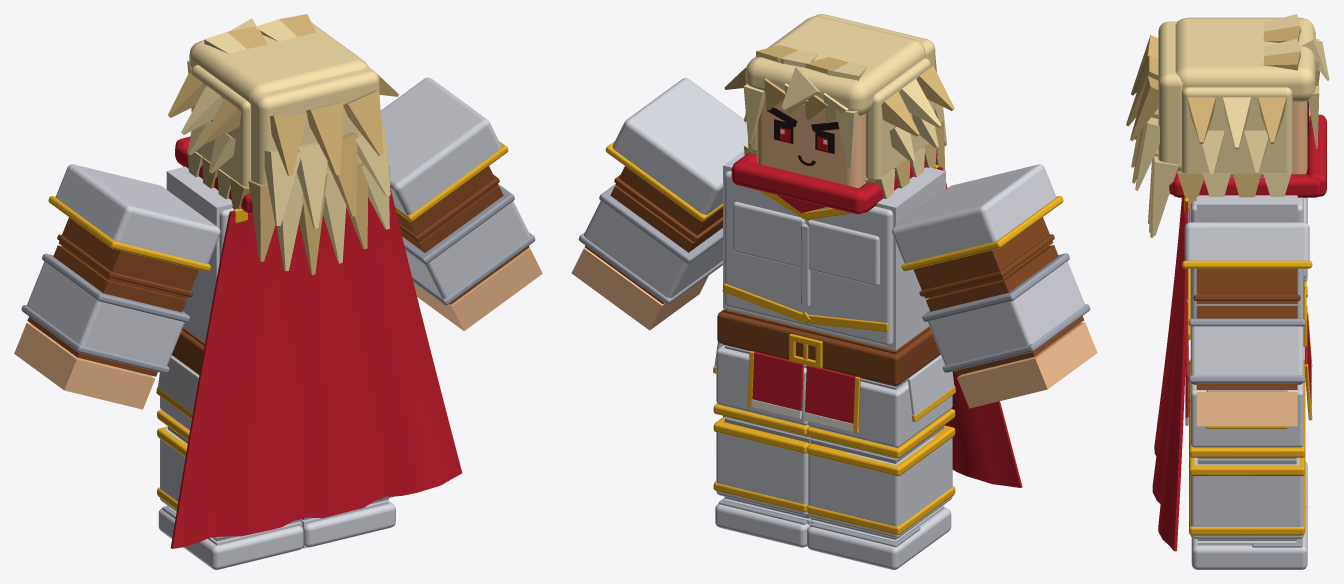
File: warden_female.glb
The picture shows the model from 3 angles, left to right: view 1: azimuth 30°, elevation 25°; view 2: azimuth 150°, elevation 25°; view 3: azimuth 270°, elevation 25°; orthographic projection.
Parts seen in each view (by area): view 1: Cape, Hair, LeftUpperArm, RightUpperArm, LeftLowerArm, RightLowerArm, LeftHand, UpperTorso, LeftFoot, RightHand, RightFoot, LeftLowerLeg (+4 smaller); view 2: UpperTorso, Hair, LeftUpperArm, RightUpperArm, LeftLowerArm, LeftLowerLeg, RightLowerArm, Skirt, LowerTorso, RightLowerLeg, Head, LeftUpperLeg (+7 smaller); view 3: Hair, RightLowerLeg, RightUpperArm, RightLowerArm, Cape, UpperTorso, RightUpperLeg, RightHand, RightFoot, Scarf, Skirt, Head.
Part boxes in pixels (<box>): Cape: <box>170,186,462,548</box>; Hair: <box>168,14,398,274</box>; LeftUpperArm: <box>48,164,220,298</box>; RightUpperArm: <box>380,77,508,242</box>; LeftLowerArm: <box>21,245,190,376</box>; RightLowerArm: <box>400,184,535,305</box>; LeftHand: <box>14,323,155,409</box>; UpperTorso: <box>166,164,390,342</box>; LeftFoot: <box>158,505,303,569</box>; RightHand: <box>413,248,542,330</box>; RightFoot: <box>301,500,395,548</box>; LeftLowerLeg: <box>157,426,302,541</box>; UpperTorso: <box>722,150,945,350</box>; Hair: <box>724,14,954,198</box>; LeftUpperArm: <box>892,164,1063,298</box>; RightUpperArm: <box>605,78,747,241</box>; LeftLowerArm: <box>922,245,1090,375</box>; LeftLowerLeg: <box>807,425,955,539</box>; RightLowerArm: <box>578,184,722,304</box>; Skirt: <box>713,342,955,433</box>; LowerTorso: <box>717,309,940,386</box>; RightLowerLeg: <box>713,416,812,518</box>; Head: <box>757,98,866,188</box>; LeftUpperLeg: <box>807,355,955,458</box>; Hair: <box>1126,14,1329,237</box>; RightLowerLeg: <box>1189,455,1305,540</box>; RightUpperArm: <box>1182,222,1312,303</box>; RightLowerArm: <box>1188,306,1305,389</box>; Cape: <box>1152,197,1188,551</box>; UpperTorso: <box>1187,195,1307,339</box>; RightUpperLeg: <box>1189,383,1305,458</box>; RightHand: <box>1196,392,1297,426</box>; RightFoot: <box>1191,506,1307,569</box>; Scarf: <box>1169,114,1326,197</box>; Skirt: <box>1185,303,1312,428</box>; Head: <box>1291,100,1309,174</box>.
Bounding box in the file's own units: 5.51 × 5.36 × 2.01.
